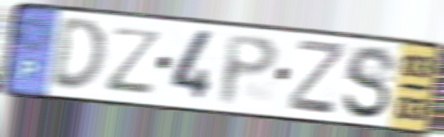4: (168, 26, 218, 107)
D: (48, 17, 109, 95)
P: (218, 32, 281, 109)
S: (340, 43, 399, 122)
Z: (286, 37, 347, 118), (106, 25, 166, 97)
